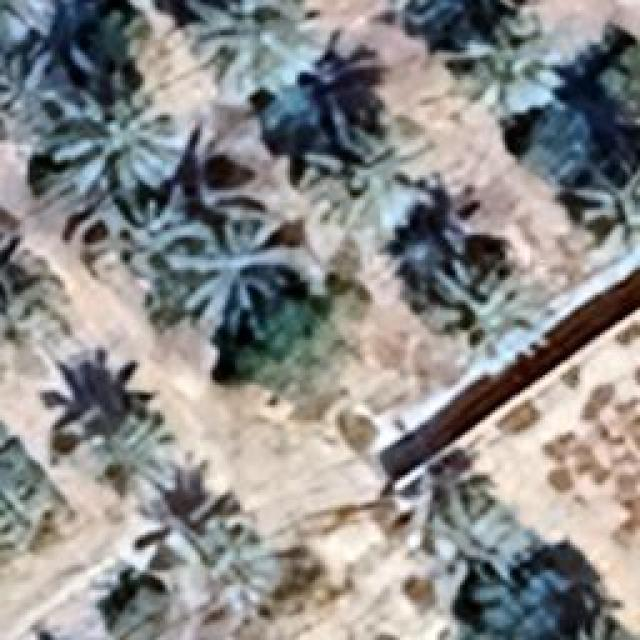PalmTree: (63, 94, 115, 436), (300, 115, 442, 235), (39, 90, 182, 205), (440, 10, 582, 115), (185, 0, 333, 95), (170, 212, 292, 312), (418, 260, 532, 352), (165, 518, 273, 608), (0, 267, 68, 387), (437, 500, 535, 578), (568, 162, 638, 235), (0, 248, 44, 354), (600, 15, 638, 125), (389, 0, 521, 27), (0, 418, 29, 538), (0, 0, 60, 48), (540, 612, 640, 640)
